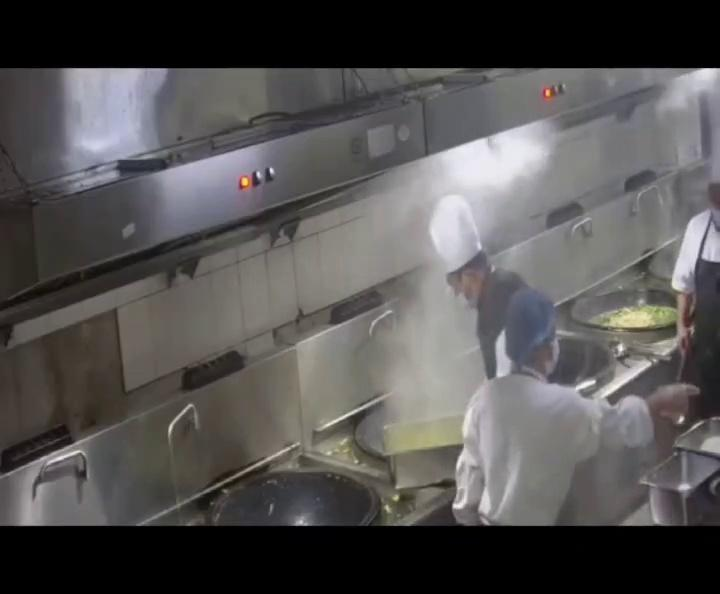gloves: (500, 282, 555, 362)
